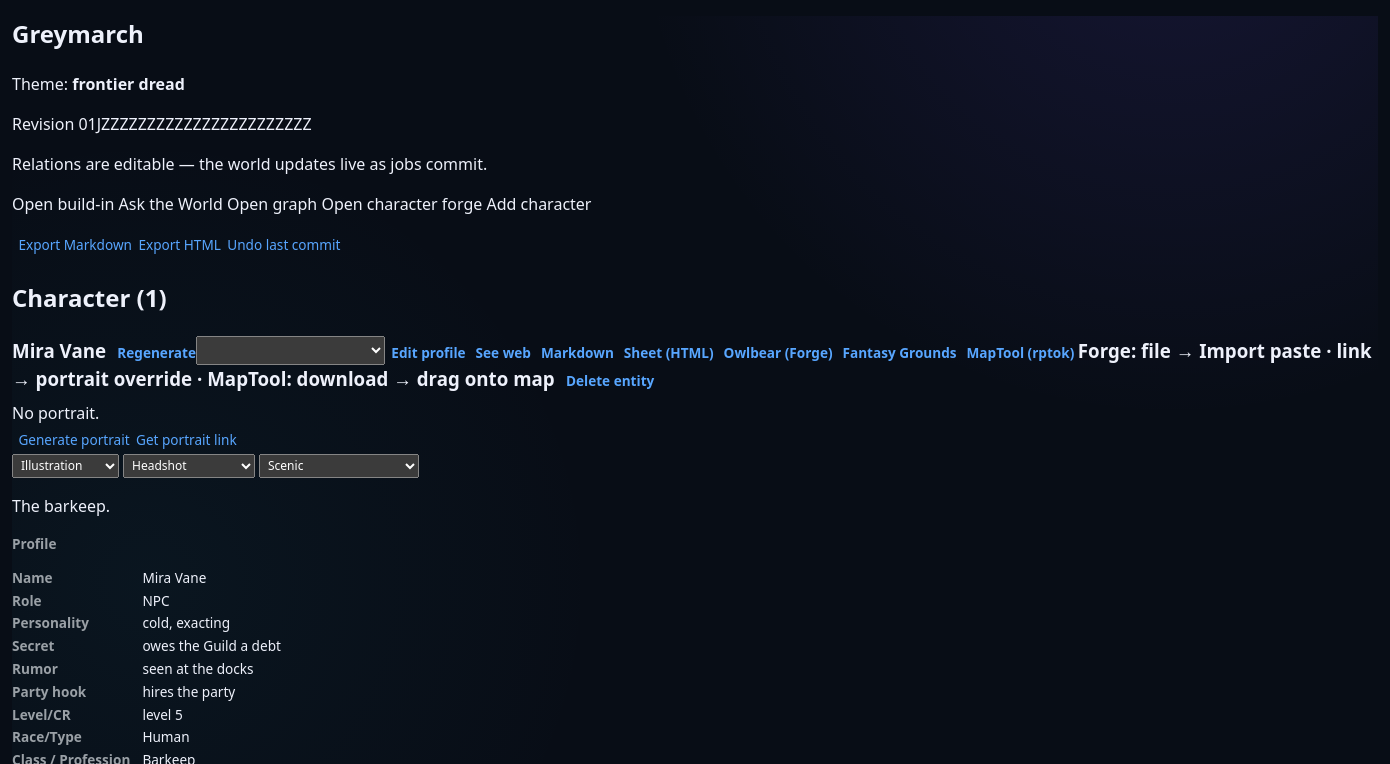
it: WorldView › a 409 renders the inline conflict notice with Reload/Discard and does not refetch
The width and height of the screenshot is (1390, 764).
Click the button "Edit profile" at x=428, y=353, box [391, 343, 466, 363]
(page scrolled)
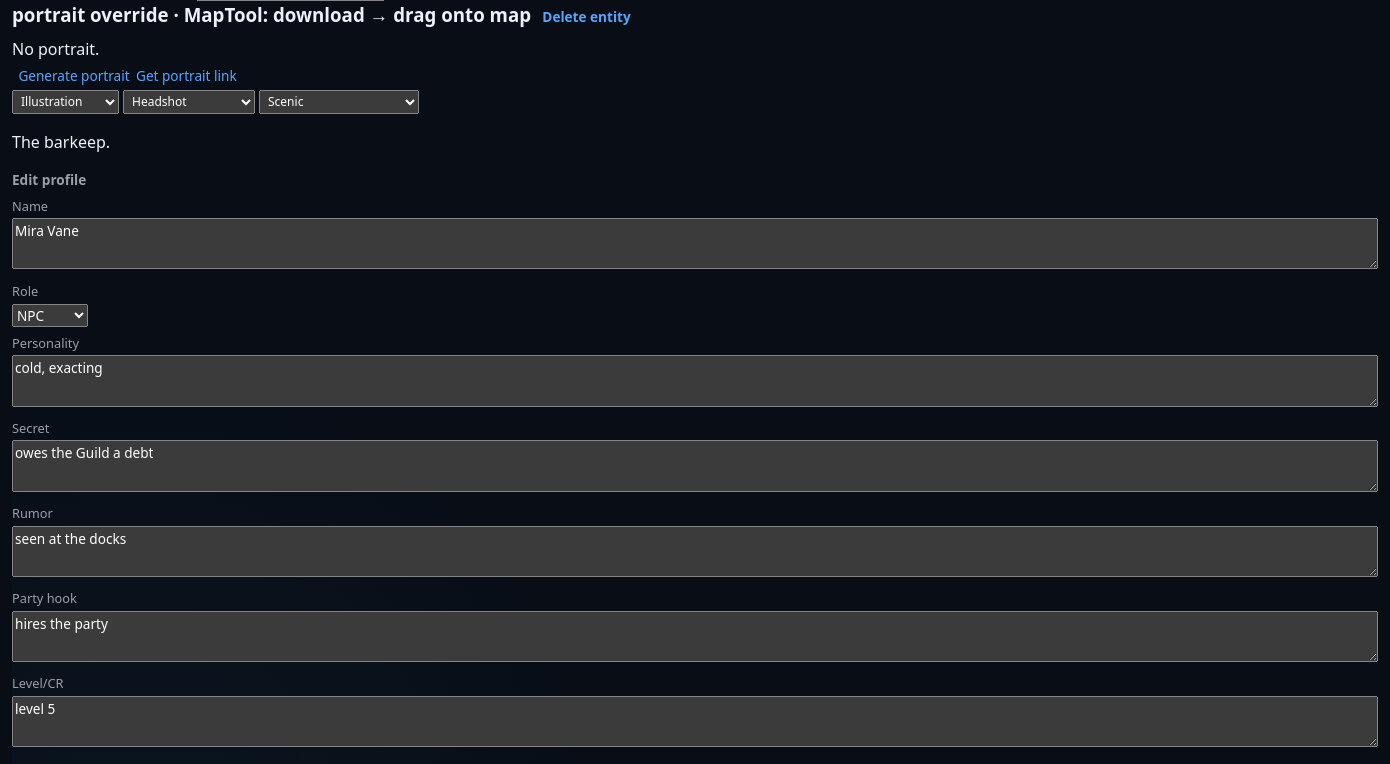
Replace the text in the text box named "Personality" with "conflicted edit" at x=695, y=381, box [12, 355, 1378, 406]
(page scrolled)
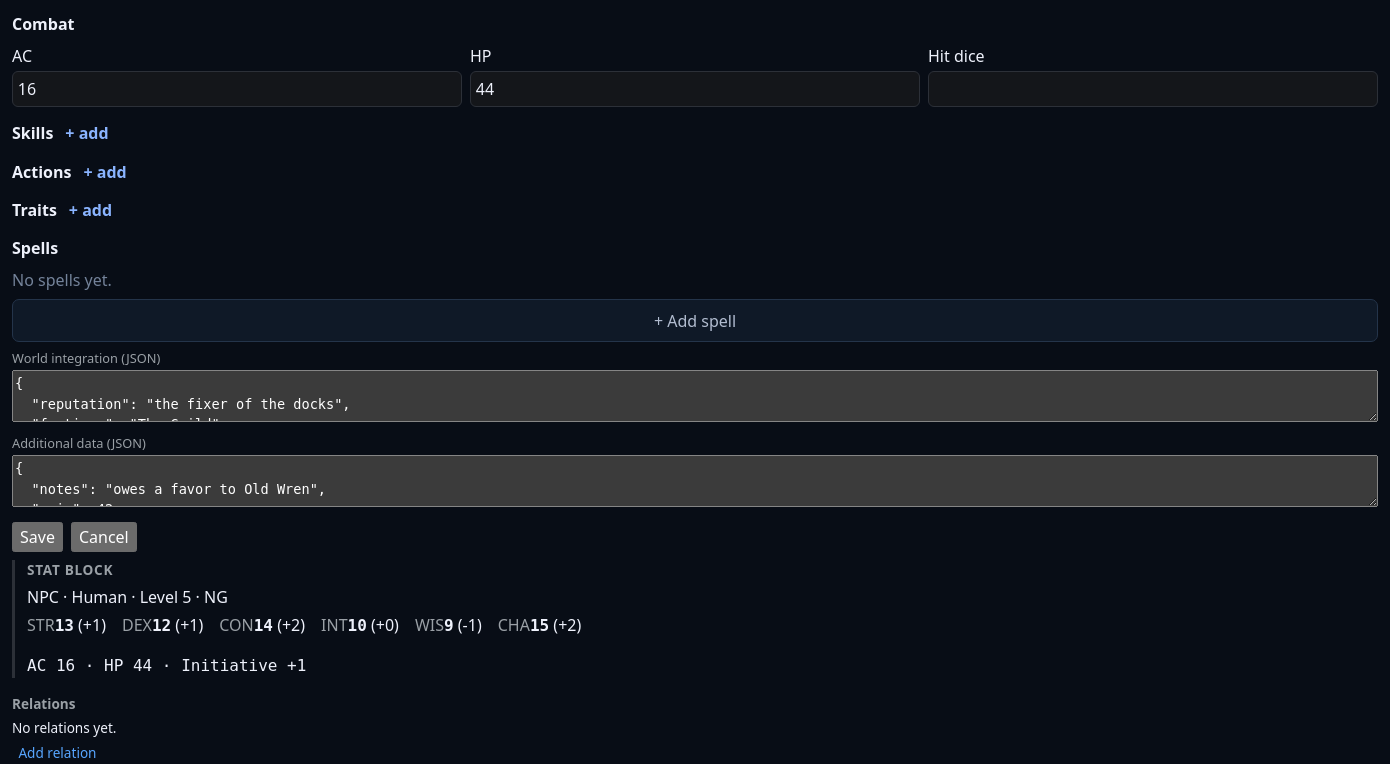
Click the button "Save" at x=37, y=537, box [12, 522, 63, 552]
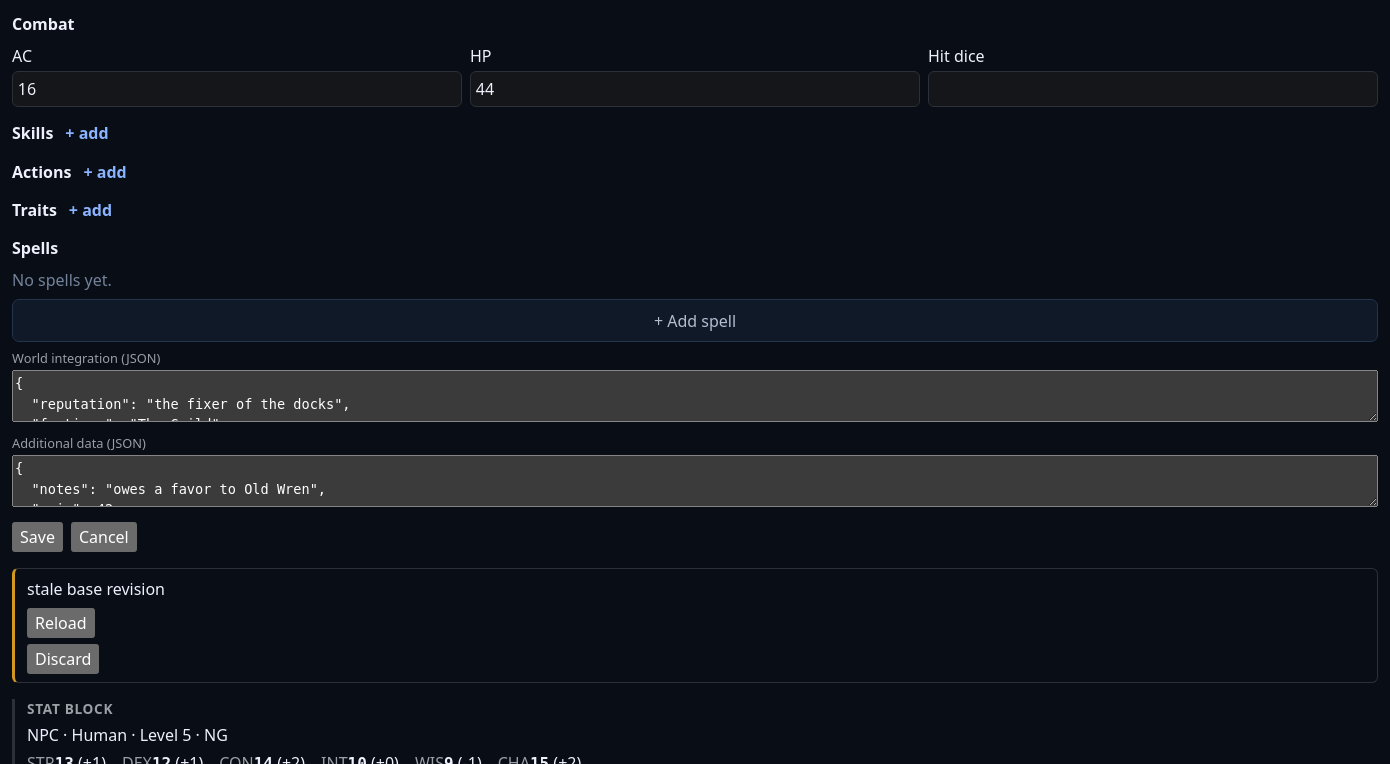
Expected: the text "stale base revision" is shown, [27, 578, 165, 600]
